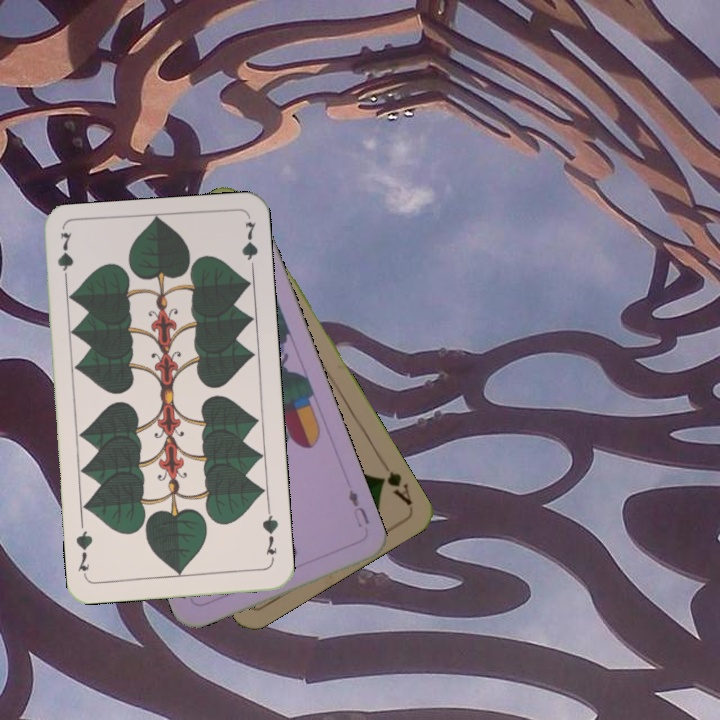EU: (344, 486, 372, 530)
G7: (258, 506, 281, 565), (54, 229, 76, 288)
GA: (375, 466, 415, 509)
